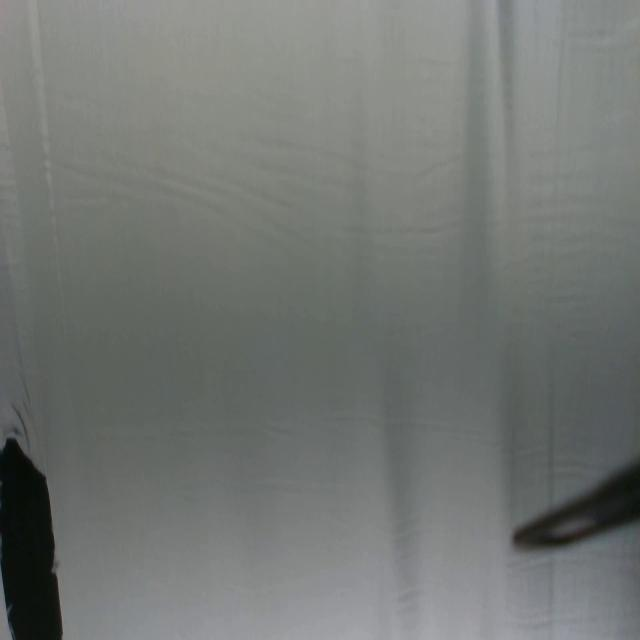crease: (29, 0, 64, 295)
hole: (0, 418, 64, 640)
